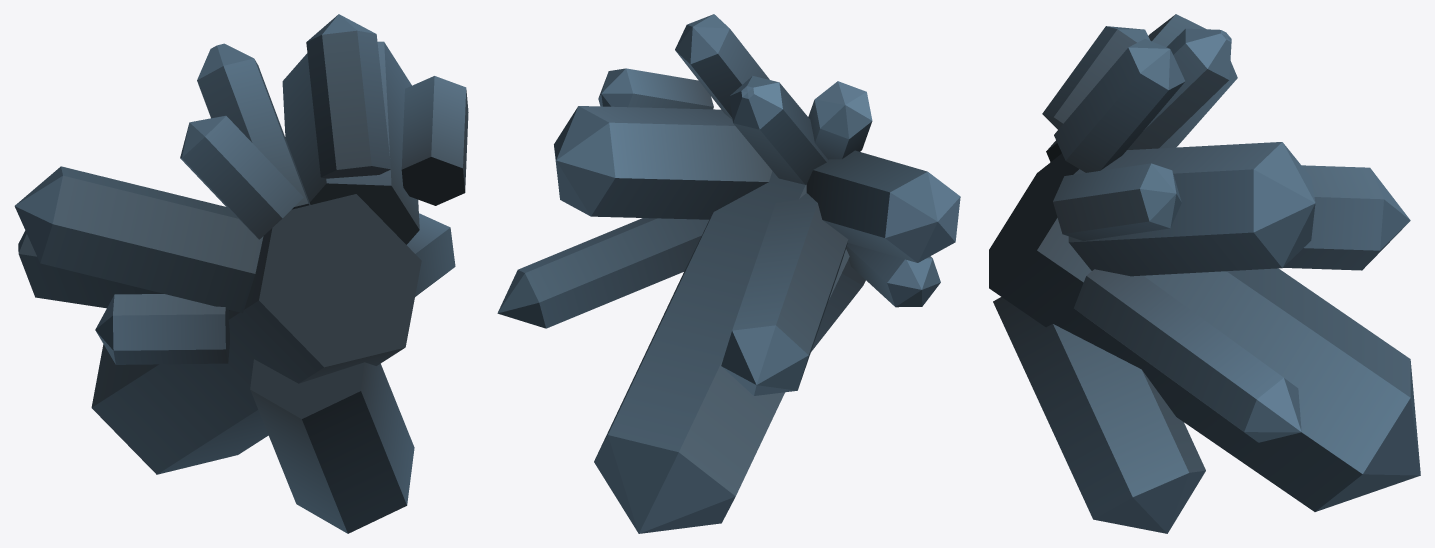
Rendered from CalciteCluster.003.glb.
The picture shows the model from 3 angles, left to right: view 1: azimuth 30°, elevation 25°; view 2: azimuth 150°, elevation 25°; view 3: azimuth 270°, elevation 25°; orthographic projection. The views are drawn at different scales.
Visible parts, largest first — view 1: CalciteCluster.003; view 2: CalciteCluster.003; view 3: CalciteCluster.003.
Boxes of the visible parts, left/top/right/bottom form: CalciteCluster.003: left=14, top=14, right=468, bottom=533; CalciteCluster.003: left=497, top=14, right=960, bottom=533; CalciteCluster.003: left=989, top=14, right=1420, bottom=533.
Bounding box in the file's own units: 967 × 990 × 809.
